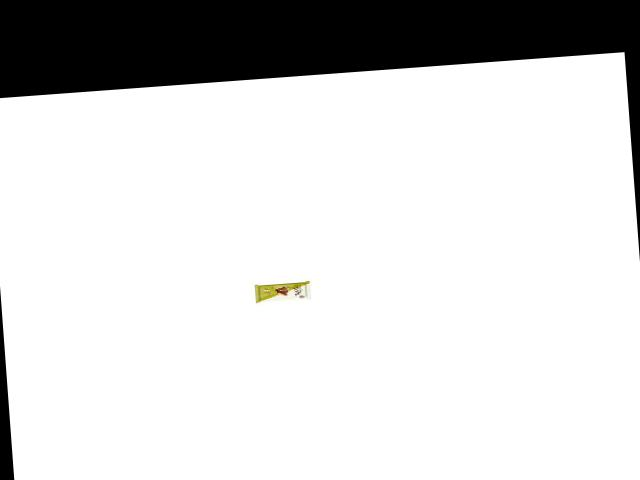chocolate: (251, 275, 315, 307)
